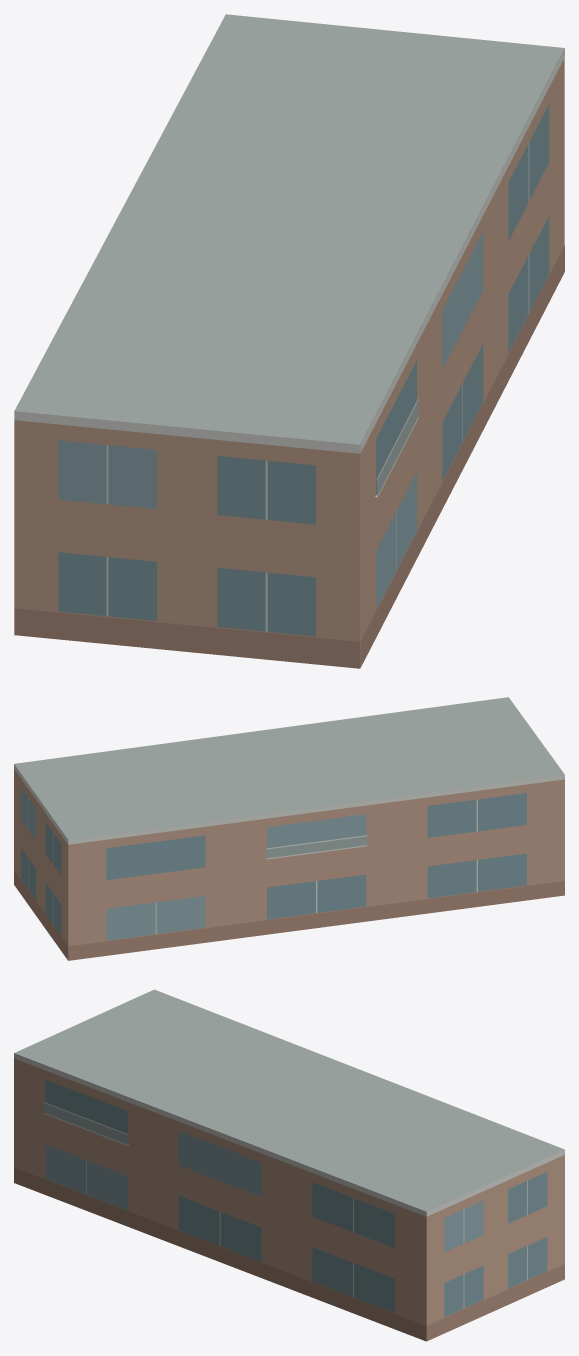
The model's file is survey-upis-32713178.glb.
3 renders of one model, top to bottom at view 1: azimuth 30°, elevation 25°; view 2: azimuth 150°, elevation 25°; view 3: azimuth 270°, elevation 25°, orthographic. The views are drawn at different scales.
Parts seen in each view (by area): view 1: survey-upis-32713178.tmp; view 2: survey-upis-32713178.tmp; view 3: survey-upis-32713178.tmp.
Part boxes in pixels (x1=…): survey-upis-32713178.tmp: x1=14, y1=14, x2=564, y2=668; survey-upis-32713178.tmp: x1=14, y1=697, x2=564, y2=960; survey-upis-32713178.tmp: x1=14, y1=989, x2=564, y2=1341.
Size of the model in its own units: 22.4 by 6.1 by 23.46.
